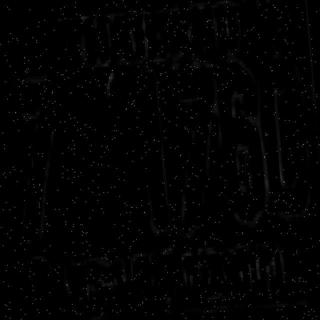N00: (257, 59, 309, 210)
N01: (140, 70, 166, 224), (68, 80, 92, 228)
N06: (214, 62, 264, 215)
N07: (171, 64, 221, 220), (12, 81, 62, 234)
P03: (58, 228, 292, 320)
